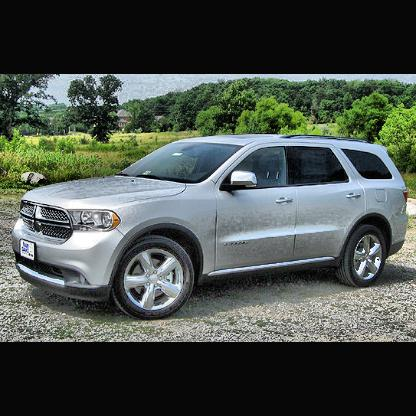Dodge Durango SUV 2012: (12, 133, 413, 322)
